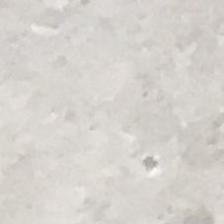Non_Crack: (26, 15, 199, 193)
